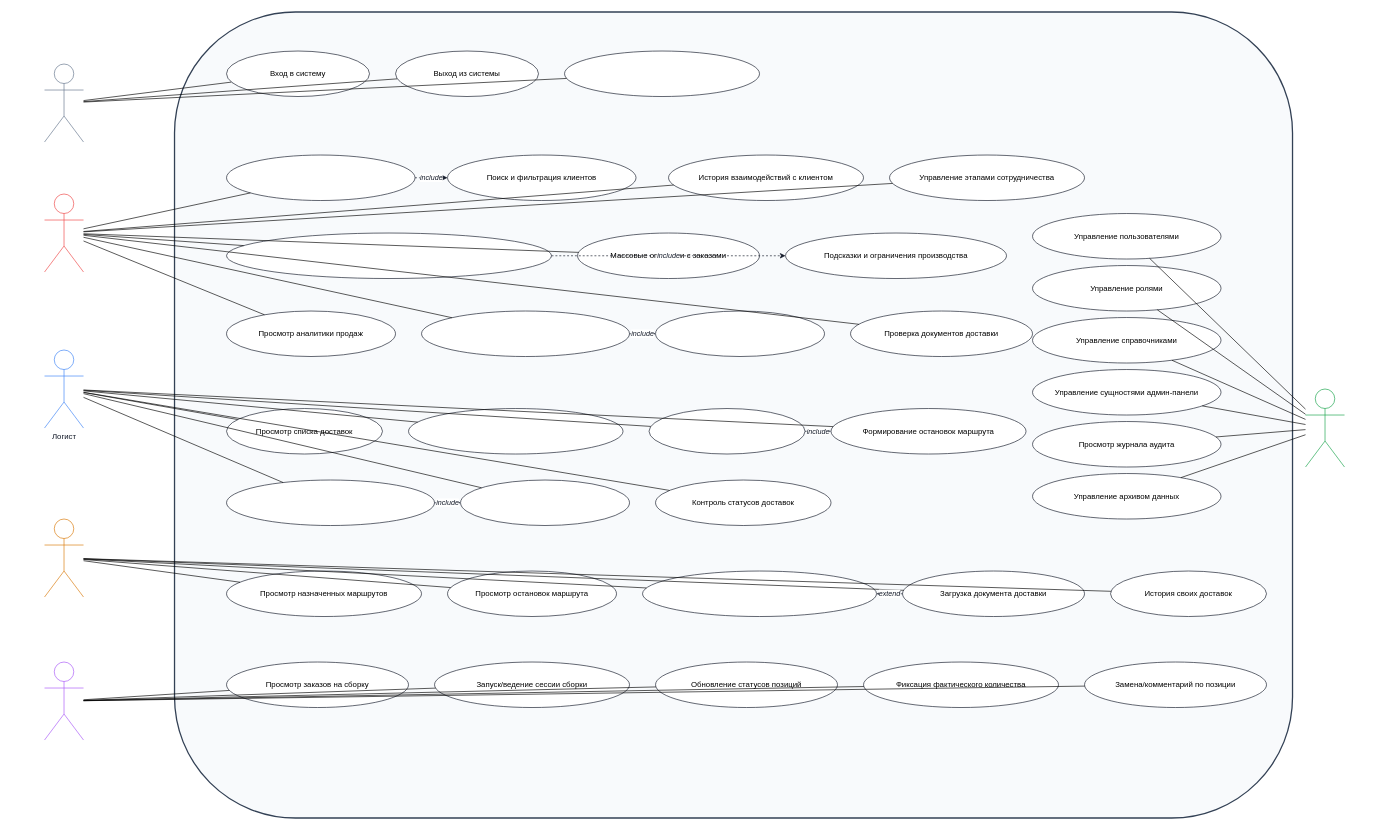
The diagram is 1381 pixels wide and 829 high, and some of its shapes have lost their labels. The centre of each missing label's shape, as x and y in pixels:
Администратор системы: point 1325,427
Восстановление пароля по email: point 662,73
Гость/Пользователь системы: point 64,102
Курьер: point 64,557
Менеджер: point 64,232
Назначение курьера на маршрут: point 330,502
Обновление статуса доставки/остановки: point 759,593
Планирование доставки (дата/время): point 515,431
Проверка данных отчета: point 740,333
Просмотр списка курьеров: point 545,502
Сборщик заказов: point 64,700
Управление заказами (создание/редактирование/архив/удаление): point 389,255
Управление клиентами (CRUD): point 320,177
Управление маршрутами: point 726,431
Формирование и управление отчетами: point 525,333
